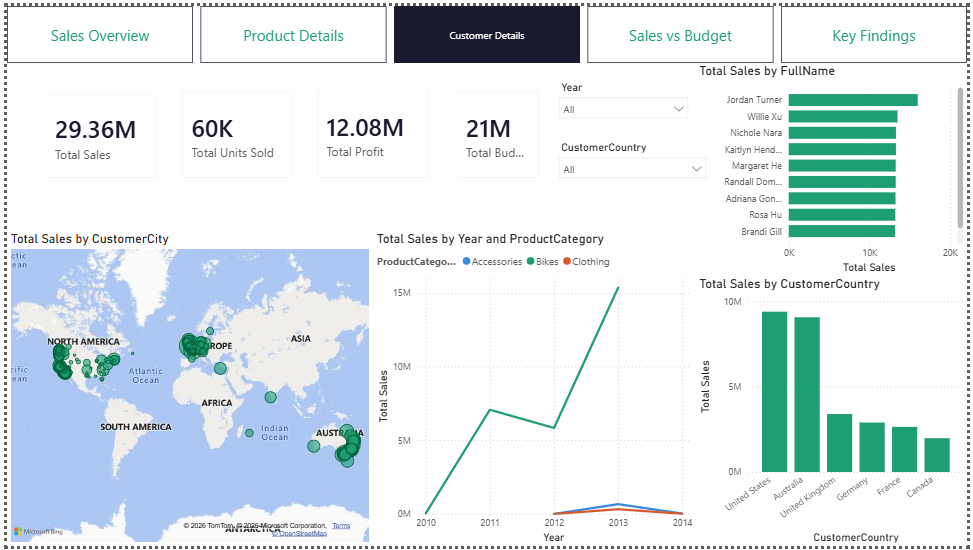

This screenshot's page, from the dashboard's own definition file:
{"tool":"powerbi","page":{"name":"Customer Details","canvas":[1280,720],"ordinal":2},"visuals":[{"type":"cardVisual","fields":{"Data":["_Measures.Total Sales"]},"box":[34,100,182,146],"z":0},{"type":"cardVisual","fields":{"Data":["_Measures.Total Units Sold"]},"box":[216,96,180,150],"z":1000},{"type":"cardVisual","fields":{"Data":["_Measures.Total Profit"]},"box":[396,94,182,152],"z":2000},{"type":"cardVisual","fields":{"Data":["_Measures.Total Budget"]},"box":[582,96,144,150],"z":3000},{"type":"map","fields":{"Size":["_Measures.Total Sales"],"Category":["DIM_Customer.CustomerCity"]},"box":[0,300,488,420],"z":4000},{"type":"clusteredBarChart","fields":{"Category":["DIM_Customer.FullName"],"Y":["_Measures.Total Sales"]},"box":[918,76,362,284],"z":5000},{"type":"clusteredColumnChart","fields":{"Y":["_Measures.Total Sales"],"Category":["DIM_Customer.CustomerCountry"]},"box":[918,360,362,360],"z":6000},{"type":"lineChart","fields":{"Category":["DIM_Calendar.Year"],"Y":["_Measures.Total Sales"],"Series":["DIM_Product.ProductCategory"]},"box":[488,300,430,420],"z":7000},{"type":"slicer","fields":{"Values":["DIM_Calendar.Year"]},"box":[726,94,192,72],"z":8000},{"type":"slicer","fields":{"Values":["DIM_Customer.CustomerCountry"]},"box":[726,174,216,86],"z":9000},{"type":"pageNavigator","box":[0,0,1280,76],"z":9001}]}

Visuals, with their boxes in screenshot pixels (x1, y1, x2, y2), scaled from the page's 1280x720 canvas onto the 973x550 screenshot:
cardVisual - _Measures.Total Sales: detection(26, 76, 164, 188)
cardVisual - _Measures.Total Units Sold: detection(164, 73, 301, 188)
cardVisual - _Measures.Total Profit: detection(301, 72, 439, 188)
cardVisual - _Measures.Total Budget: detection(442, 73, 552, 188)
map - _Measures.Total Sales x DIM_Customer.CustomerCity: detection(0, 229, 371, 549)
clusteredBarChart - DIM_Customer.FullName x _Measures.Total Sales: detection(698, 58, 972, 275)
clusteredColumnChart - _Measures.Total Sales x DIM_Customer.CustomerCountry: detection(698, 275, 972, 549)
lineChart - DIM_Calendar.Year x _Measures.Total Sales: detection(371, 229, 698, 549)
slicer - DIM_Calendar.Year: detection(552, 72, 698, 127)
slicer - DIM_Customer.CustomerCountry: detection(552, 133, 716, 199)
pageNavigator: detection(0, 0, 972, 58)
